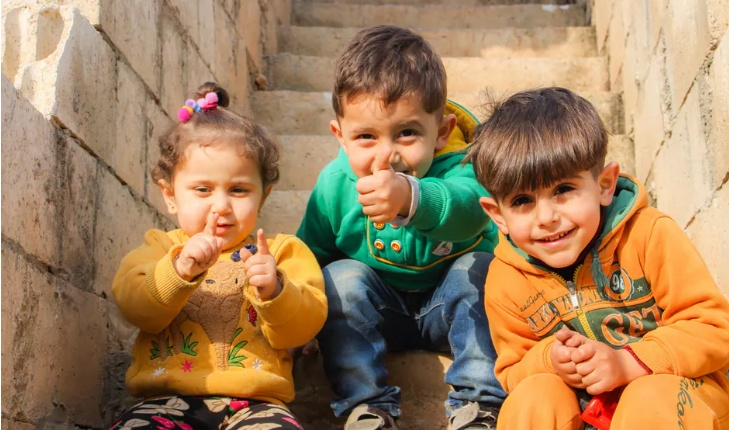face: (503, 170, 597, 268), (175, 149, 261, 248), (342, 92, 432, 185)
